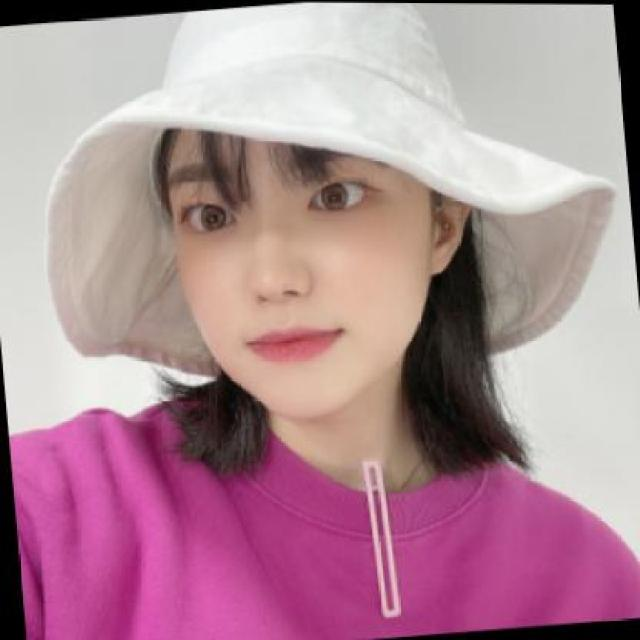hat: (46, 2, 617, 375)
